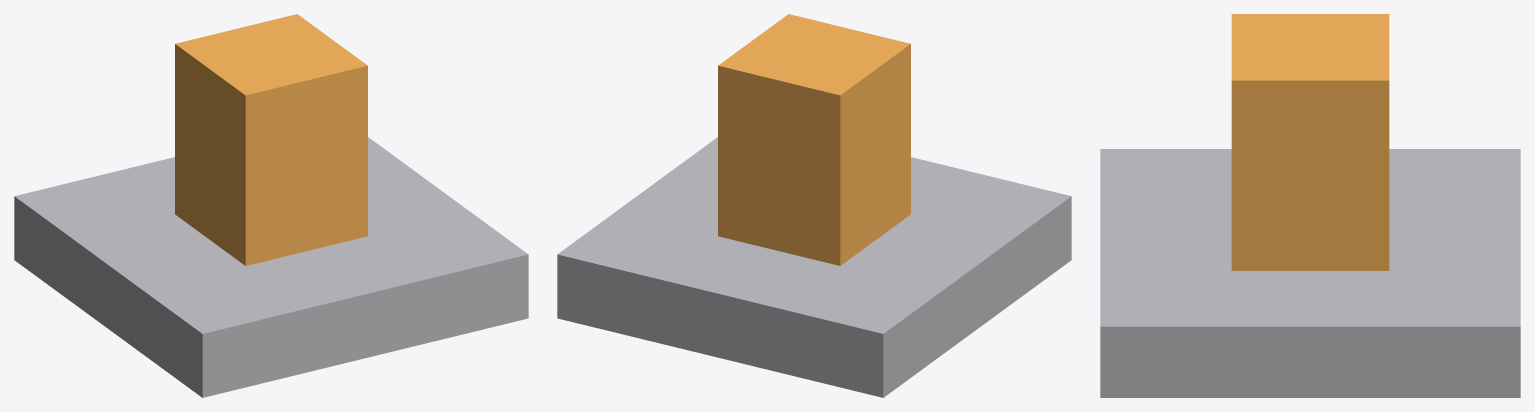
The model's file is Prop_DS_Campfire_V3.glb.
The picture shows the model from 3 angles, left to right: view 1: azimuth 30°, elevation 25°; view 2: azimuth 150°, elevation 25°; view 3: azimuth 270°, elevation 25°; orthographic projection. The views are drawn at different scales.
Parts seen in each view (by area): view 1: Prop_DS_Campfire_V3; view 2: Prop_DS_Campfire_V3; view 3: Prop_DS_Campfire_V3.
Part boxes in pixels (left/top/right/bottom): Prop_DS_Campfire_V3: left=14, top=14, right=528, bottom=397; Prop_DS_Campfire_V3: left=557, top=14, right=1071, bottom=397; Prop_DS_Campfire_V3: left=1100, top=14, right=1520, bottom=397.
Size of the model in its own units: 0.8 by 0.55 by 0.8.
